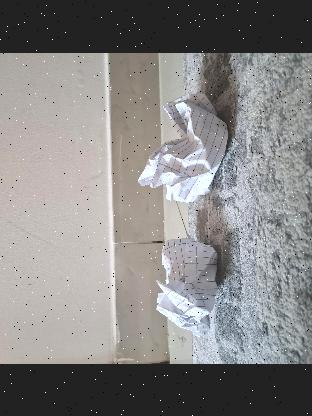Others: (138, 88, 229, 200), (156, 233, 219, 332)
